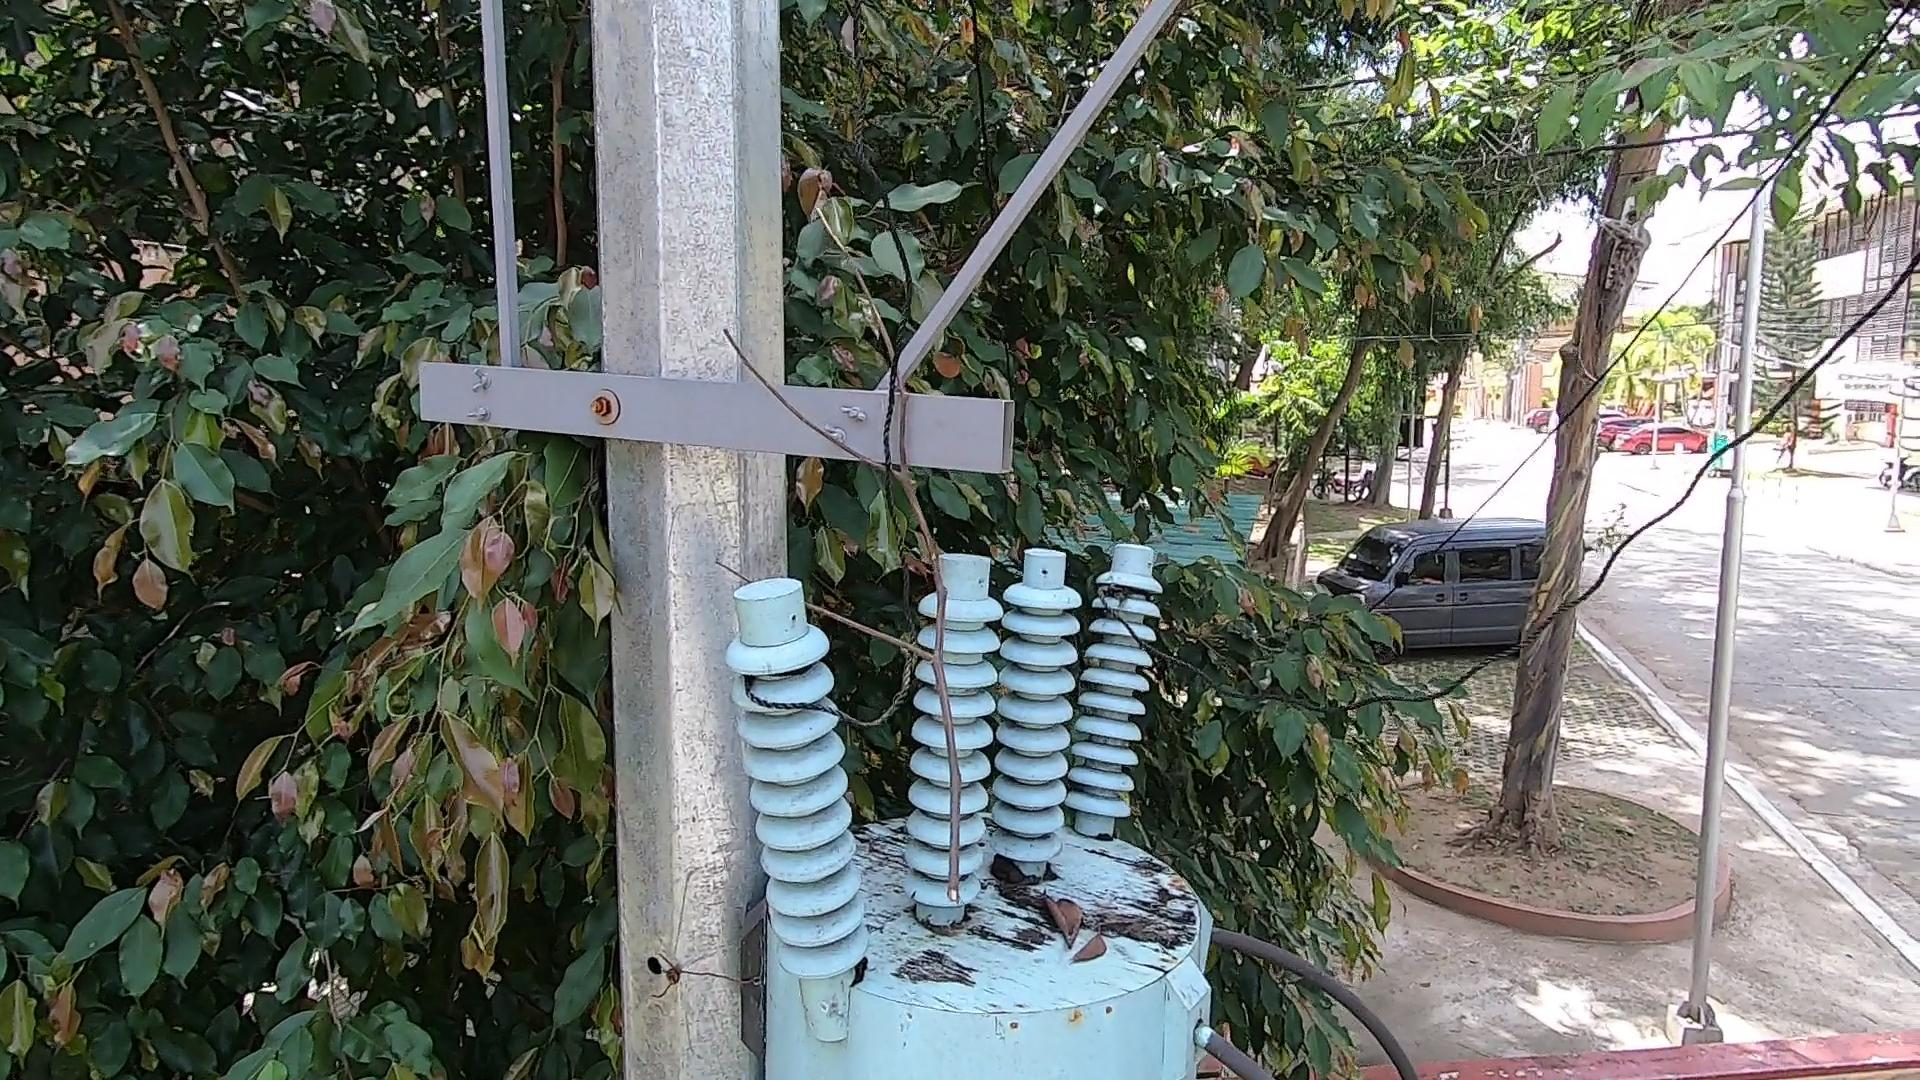leaf: (1033, 885, 1095, 943), (988, 848, 1029, 903), (1072, 934, 1131, 971)
tree branch: (715, 167, 1001, 913)
